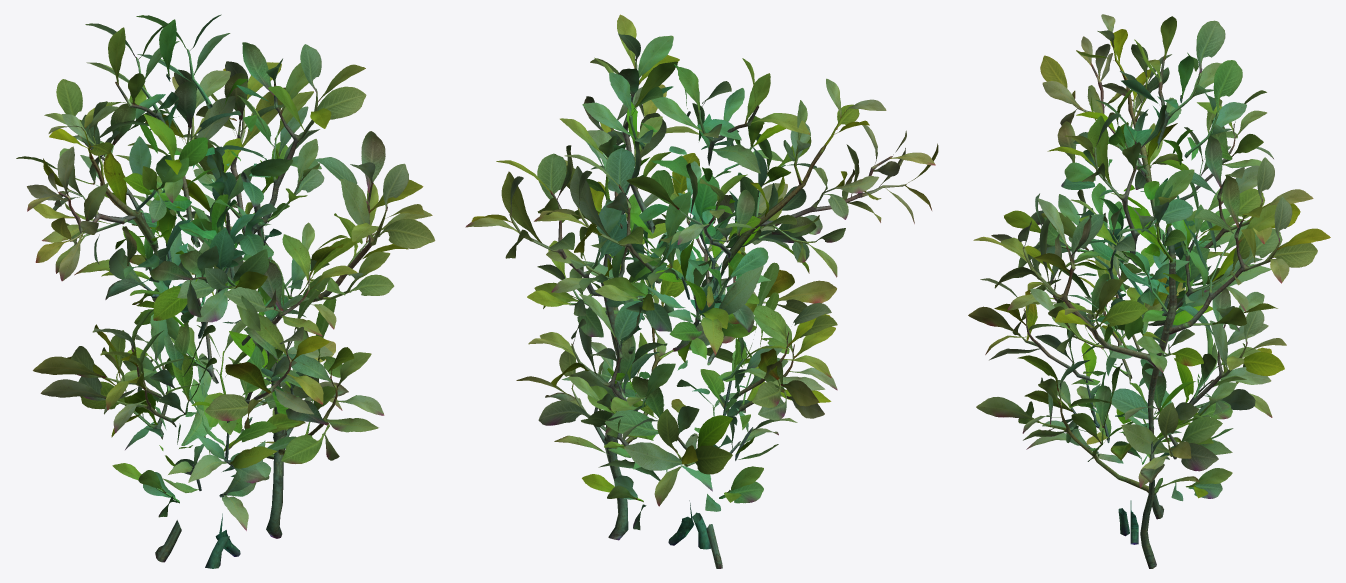
Rendered from shrub_04.gltf.
3 renders of one model, left to right at view 1: azimuth 30°, elevation 25°; view 2: azimuth 150°, elevation 25°; view 3: azimuth 270°, elevation 25°, orthographic. The views are drawn at different scales.
Parts seen in each view (by area): view 1: shrub_04_d, shrub_04_c, shrub_04_b, shrub_04_a; view 2: shrub_04_d, shrub_04_c, shrub_04_b, shrub_04_a; view 3: shrub_04_d, shrub_04_c, shrub_04_b, shrub_04_a.
Part boxes in pixels (left/top/right/bottom): shrub_04_d: left=16, top=14, right=435, bottom=538; shrub_04_c: left=33, top=22, right=366, bottom=556; shrub_04_b: left=40, top=138, right=330, bottom=568; shrub_04_a: left=101, top=194, right=342, bottom=562; shrub_04_d: left=465, top=64, right=938, bottom=540; shrub_04_c: left=534, top=14, right=831, bottom=545; shrub_04_b: left=528, top=176, right=837, bottom=549; shrub_04_a: left=516, top=175, right=797, bottom=568; shrub_04_d: left=973, top=14, right=1330, bottom=568; shrub_04_c: left=991, top=16, right=1313, bottom=544; shrub_04_b: left=968, top=178, right=1286, bottom=536; shrub_04_a: left=1026, top=198, right=1232, bottom=519.
Size of the model in its own units: 0.1703 by 0.2192 by 0.148.
Materials: 1 (1 with a texture image).
